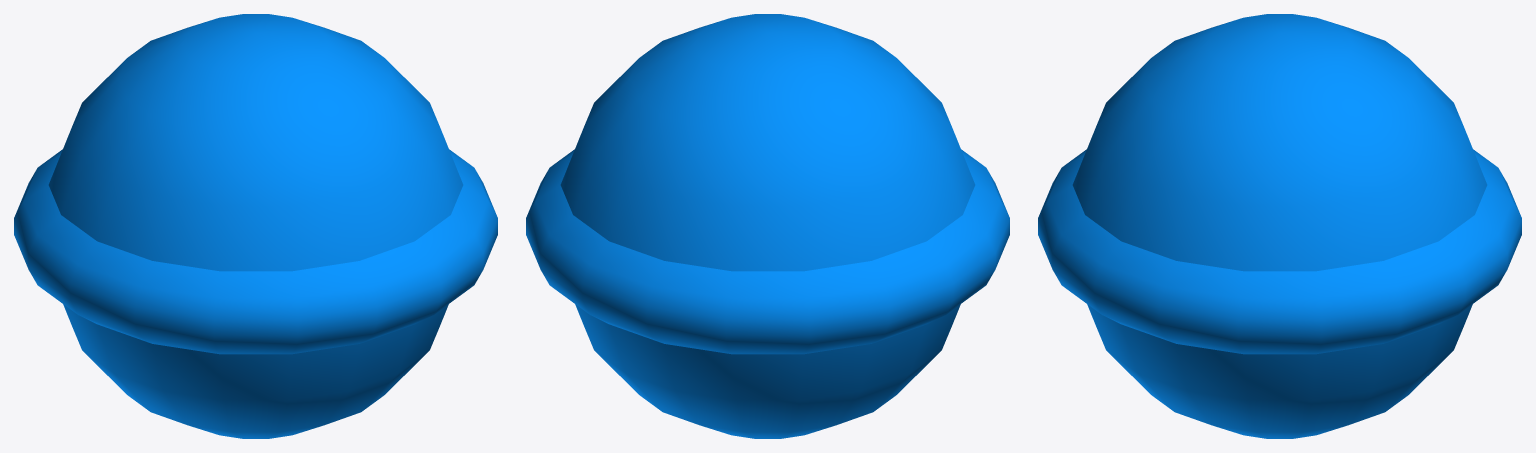
File: Candy_LollipopClassic-B.FBX
The picture shows the model from 3 angles, left to right: view 1: azimuth 30°, elevation 25°; view 2: azimuth 150°, elevation 25°; view 3: azimuth 270°, elevation 25°; orthographic projection.
Visible parts, largest first — view 1: Candy_LollipopClassic-B; view 2: Candy_LollipopClassic-B; view 3: Candy_LollipopClassic-B.
Boxes of the visible parts, x1,y1,x2,y2 form: Candy_LollipopClassic-B: [14, 14, 497, 438]; Candy_LollipopClassic-B: [526, 14, 1009, 438]; Candy_LollipopClassic-B: [1038, 14, 1521, 438].
Size of the model in its own units: 1414 by 1268 by 1435.
